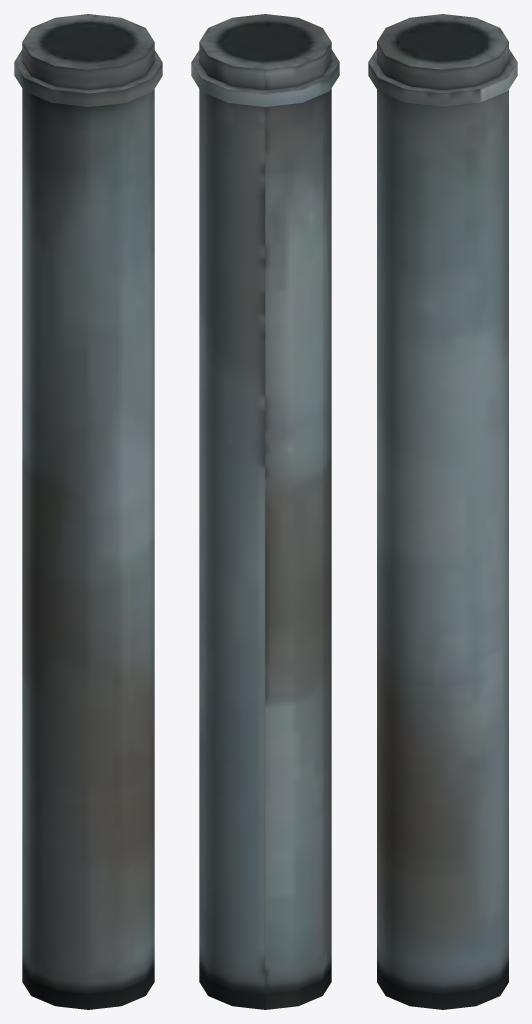
3 views of the same model, side by side, from view 1: azimuth 30°, elevation 25°; view 2: azimuth 150°, elevation 25°; view 3: azimuth 270°, elevation 25° (orthographic).
Parts seen in each view (by area): view 1: body0_model0_lod0_mesh0; view 2: body0_model0_lod0_mesh0; view 3: body0_model0_lod0_mesh0.
Boxes of the visible parts, x1,y1,x2,y2 form: body0_model0_lod0_mesh0: (14,14,162,1009); body0_model0_lod0_mesh0: (191,14,339,1009); body0_model0_lod0_mesh0: (368,14,517,1009).
Size of the model in its own units: 22.85 by 160 by 23.07.
Materials: 1 (1 with a texture image).
